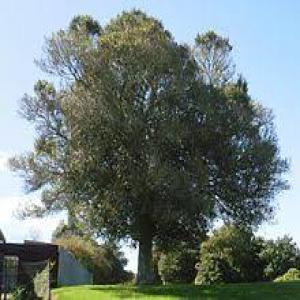Tree: (7, 5, 290, 282)
